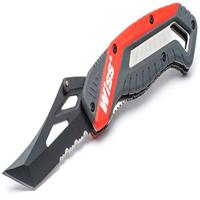knife: (2, 1, 196, 191)
